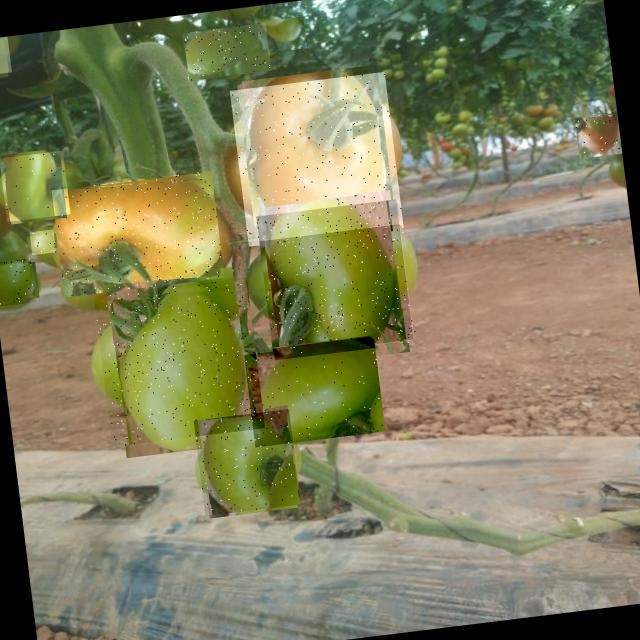Ripe Tomato: (230, 71, 403, 246), (574, 110, 622, 158)
Unripe Tomato: (93, 276, 264, 446), (256, 199, 416, 359), (51, 170, 224, 298), (244, 338, 385, 446), (194, 408, 301, 516), (182, 23, 272, 80), (0, 151, 70, 222), (258, 12, 304, 58), (0, 257, 35, 306), (29, 228, 56, 254), (0, 36, 11, 77)
